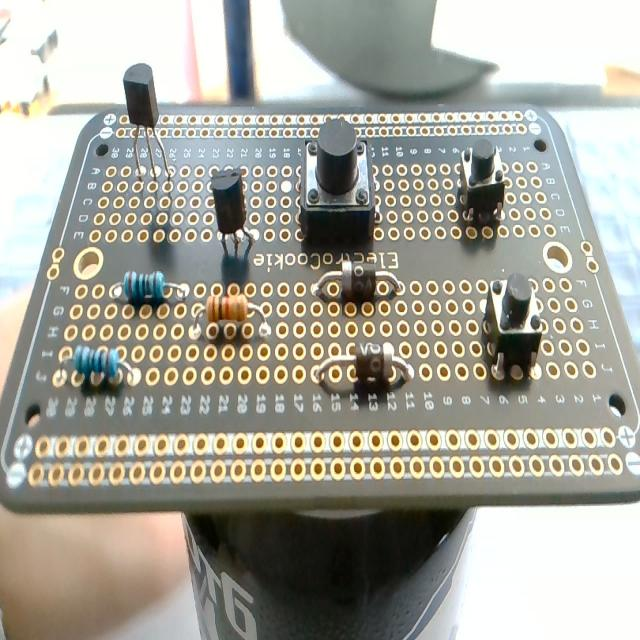diode: (305, 337, 423, 408), (312, 252, 404, 310)
resistor: (60, 333, 138, 403), (108, 253, 175, 313), (196, 281, 268, 335)
switch: (470, 250, 550, 391), (298, 114, 380, 243), (452, 124, 513, 231)
transistor: (115, 59, 186, 201), (206, 158, 266, 262)
